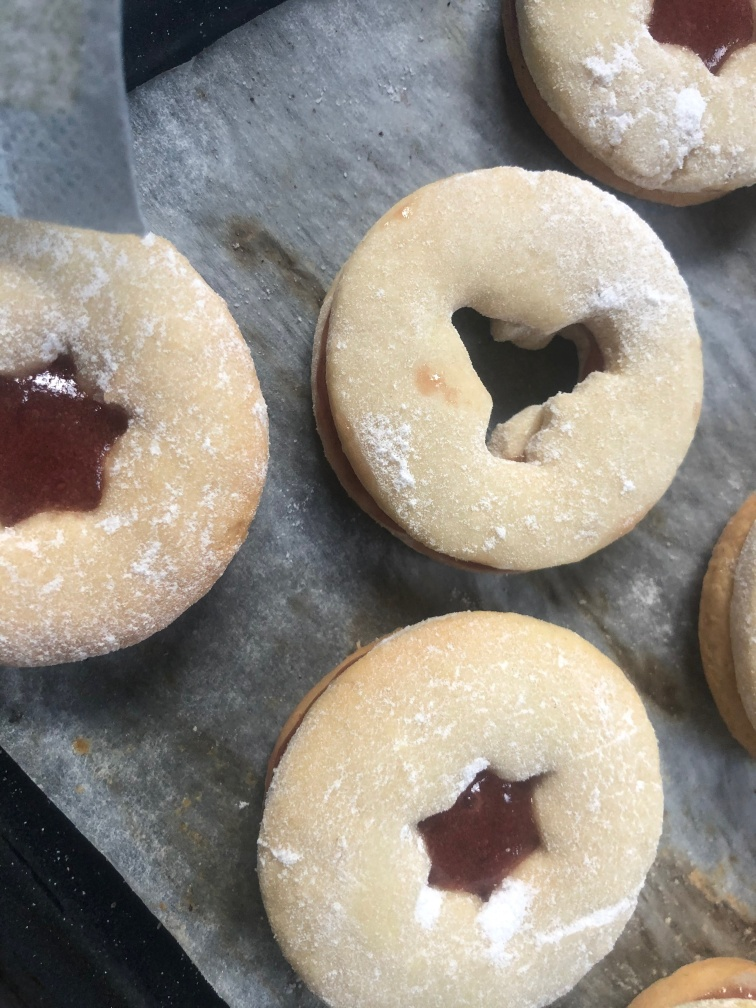christmas shortbread with jam: (250, 601, 662, 1008), (304, 162, 704, 571), (1, 219, 277, 682), (503, 1, 755, 208)
